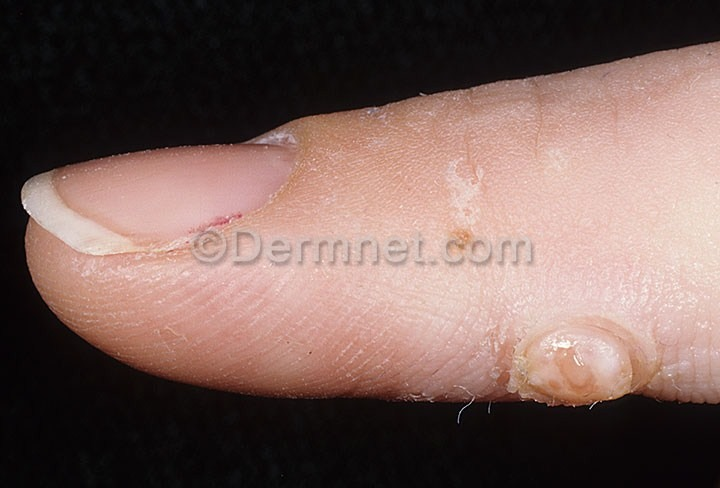Warts: (514, 319, 651, 410)
